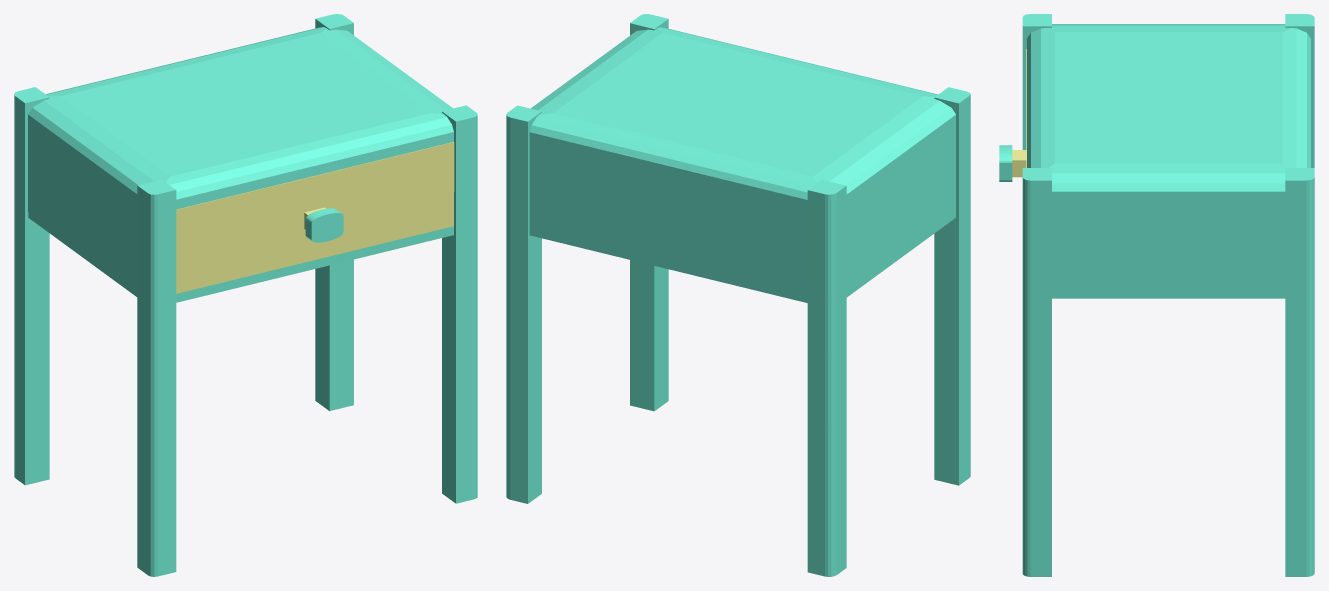
The model's file is side-table.fbx.
3 views of the same model, side by side, from view 1: azimuth 30°, elevation 25°; view 2: azimuth 150°, elevation 25°; view 3: azimuth 270°, elevation 25° (orthographic). The views are drawn at different scales.
Visible parts, largest first — view 1: Cube.003, Cube.001; view 2: Cube.003; view 3: Cube.003, Cube.001.
Part boxes in pixels (left/top/right/bottom): Cube.003: left=14, top=14, right=477, bottom=576; Cube.001: left=176, top=142, right=454, bottom=293; Cube.003: left=506, top=14, right=970, bottom=576; Cube.003: left=1022, top=14, right=1314, bottom=576; Cube.001: left=999, top=49, right=1026, bottom=181.
Bounding box in the file's own units: 189 × 210 × 151.
